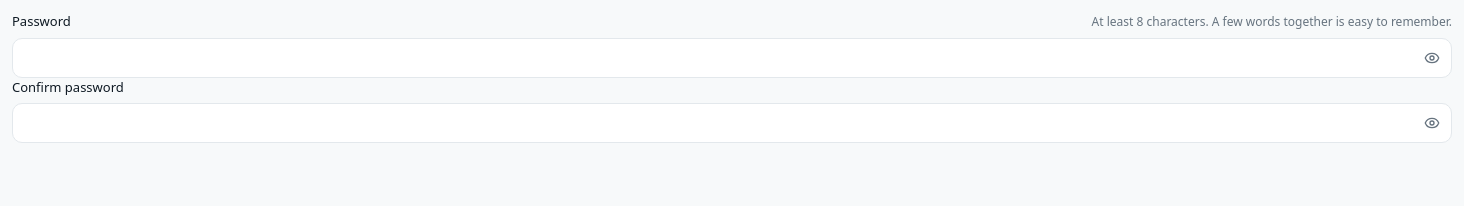
Test: NewPasswordFields › says when the confirmation doesn't match
Type "first-password-1" into the password field labelled "Password" at (732, 58), box [12,38,1452,78]
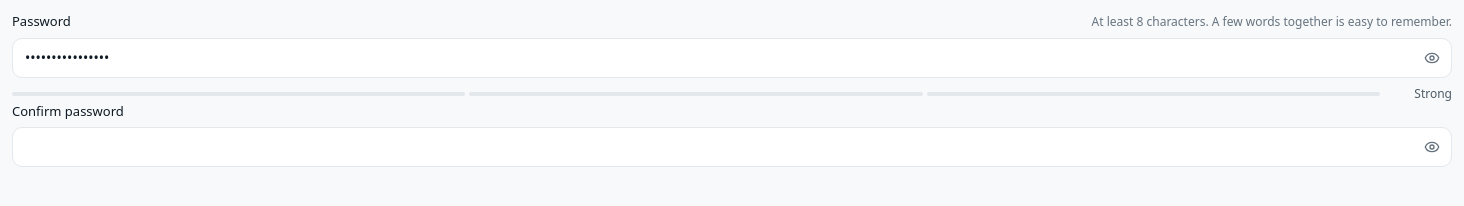
Type "first-password-2" into the password field labelled "Confirm password" at (732, 147), box [12,127,1452,167]
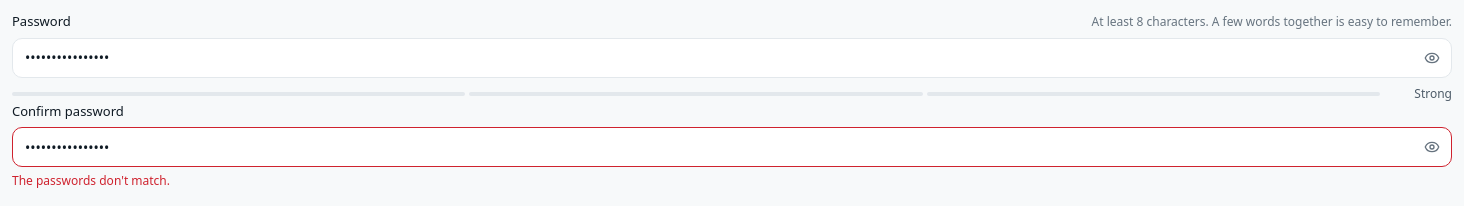
Result: the text "The passwords don't match." is shown at [12,172,170,189]
Type "first-password-1" into the password field labelled "Confirm password" at (732, 147), box [12,127,1452,167]
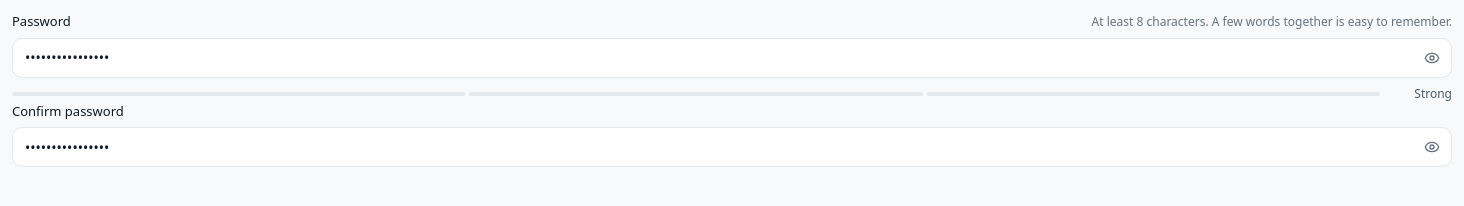
Result: the text "The passwords don't match." is gone
